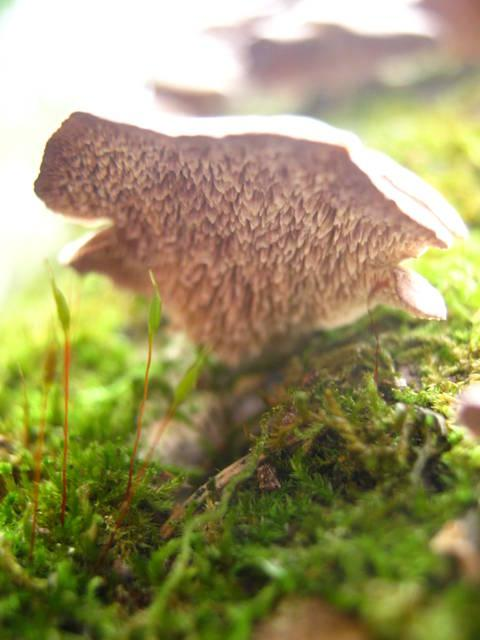poisonous_mushroom: (32, 107, 469, 463)
